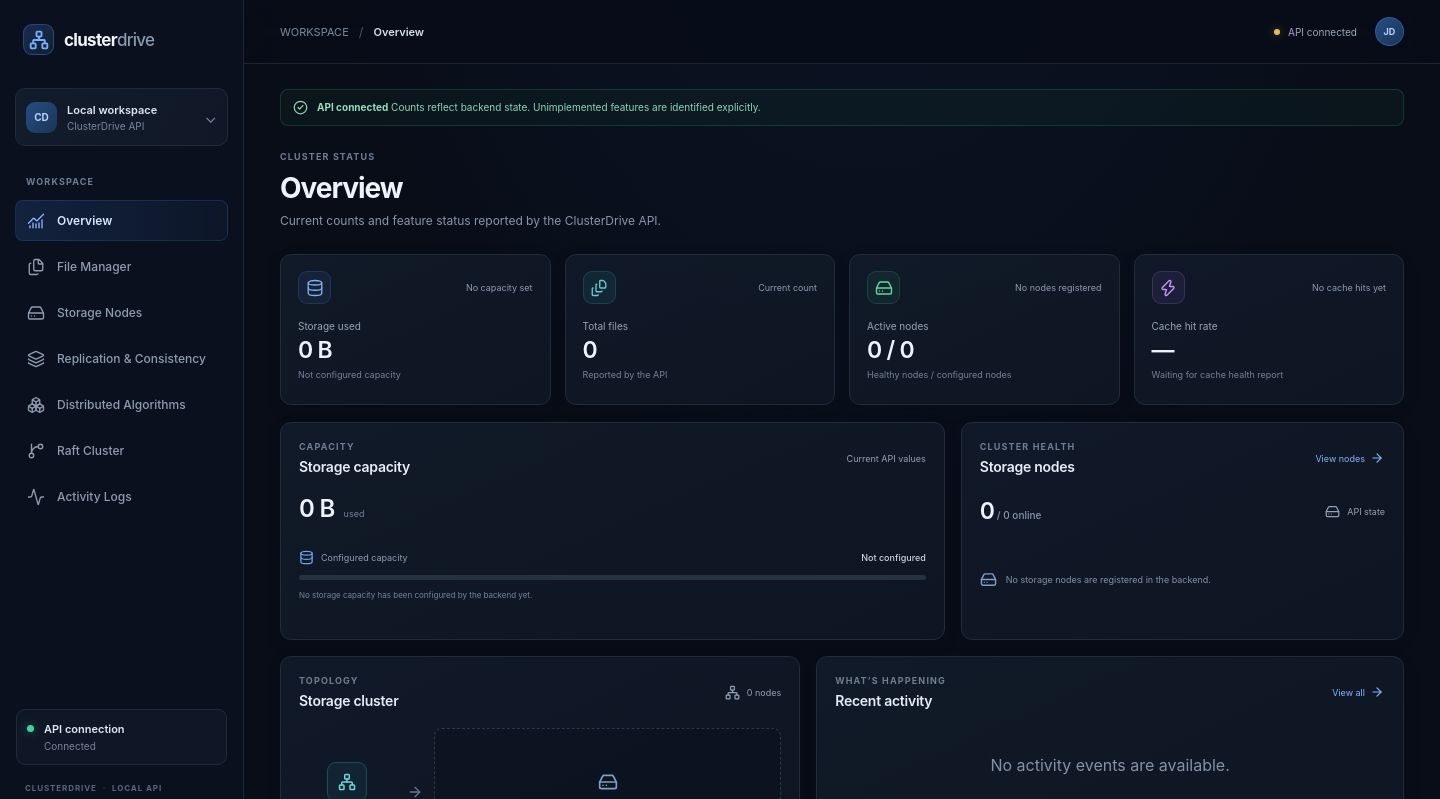
Test: ClusterDrive API-connected dashboard › runs and displays the deterministic deadlock recovery demo
Click the button "Distributed Algorithms".
click(122, 404)  # box [15, 384, 228, 425]
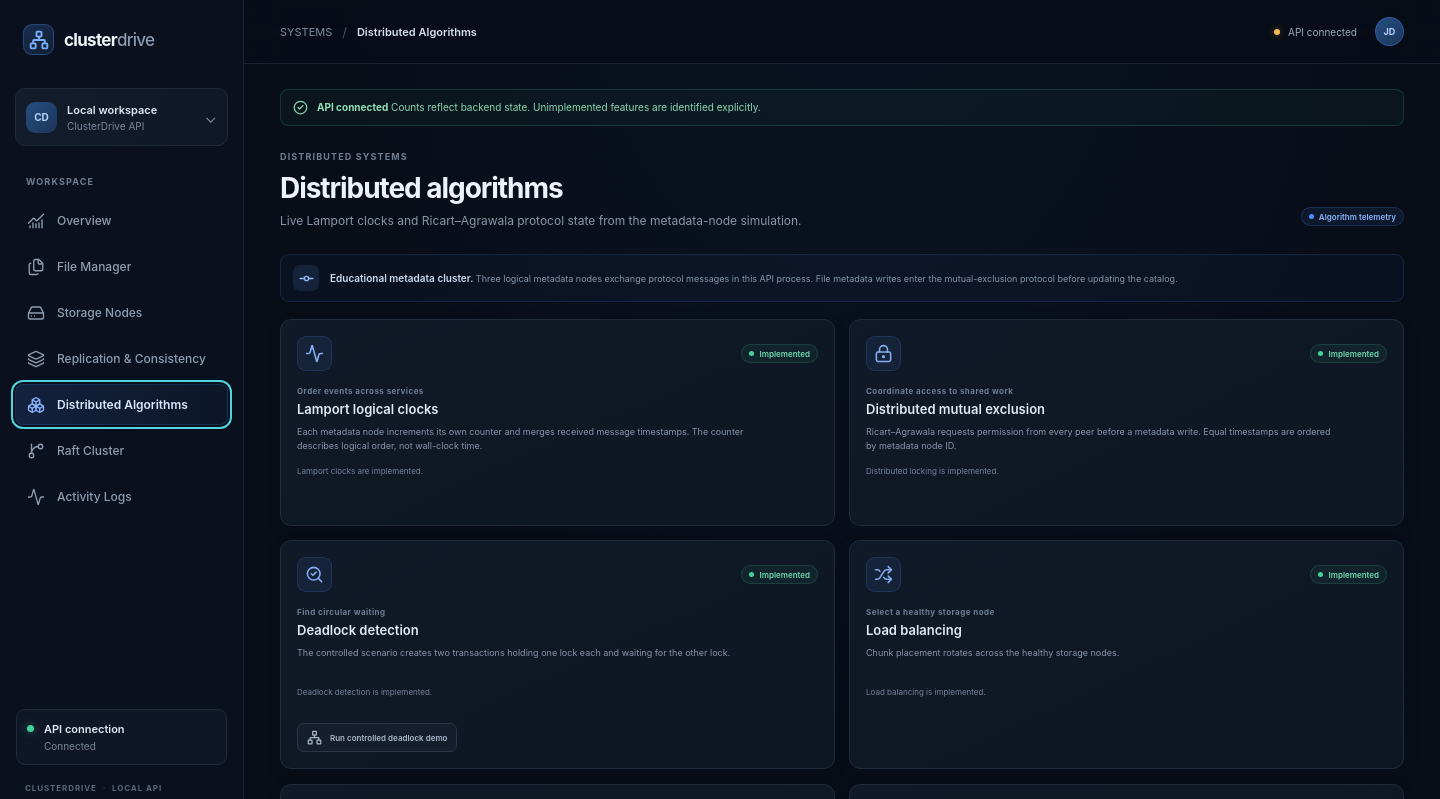
Click the button "Run controlled deadlock demo".
click(377, 738)  # box [297, 723, 458, 752]
(page scrolled)
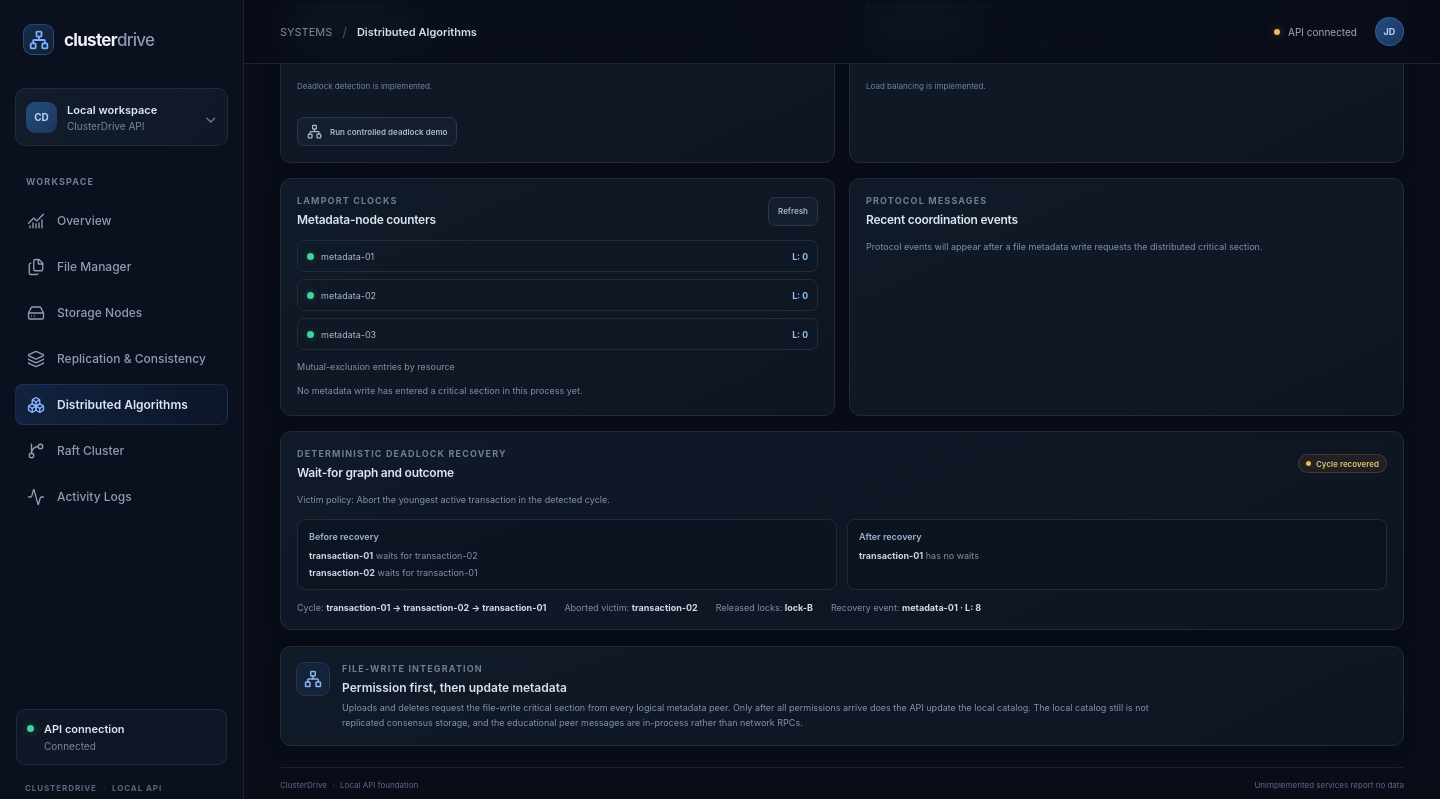
Check: the text "Cycle recovered" is shown, box [1298, 454, 1387, 473]
Check: the text "transaction-01 → transaction-02 → transaction-01" is shown, box [326, 602, 546, 613]
Check: the text "Aborted victim:" shows "transaction-02", box [632, 602, 698, 613]
